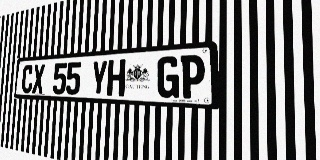5: (66, 62, 81, 95), (53, 63, 67, 94)
C: (21, 65, 34, 93)
G: (157, 56, 180, 98)
H: (107, 59, 126, 96)
P: (180, 54, 205, 99)
X: (32, 64, 45, 94)
Y: (90, 60, 108, 96)
